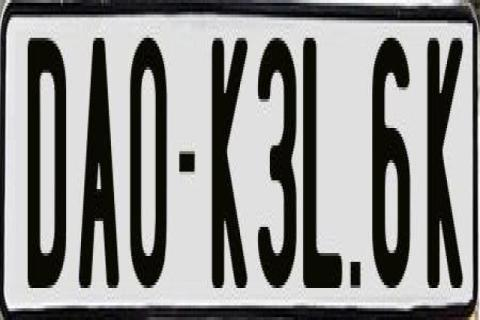0: (131, 35, 171, 294), (255, 38, 294, 302), (372, 35, 410, 299)
A: (78, 29, 124, 279)
D: (26, 35, 66, 297)
K: (425, 35, 462, 285), (213, 32, 248, 288)
L: (302, 29, 346, 297)
